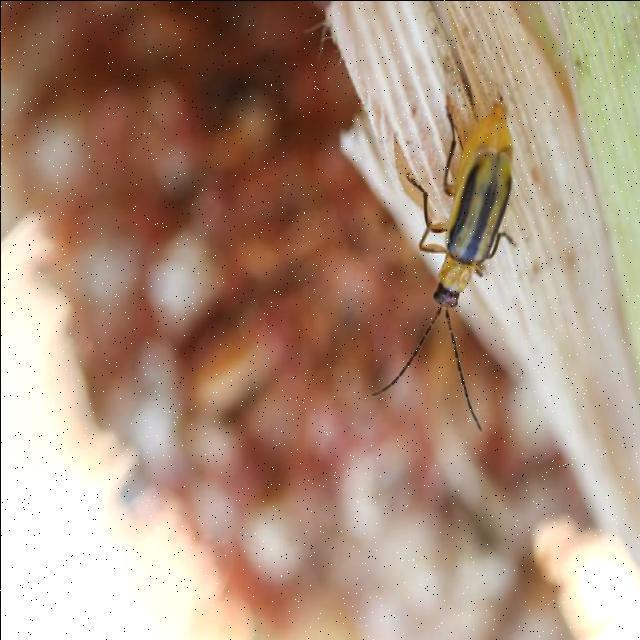trips: (372, 97, 516, 431)
